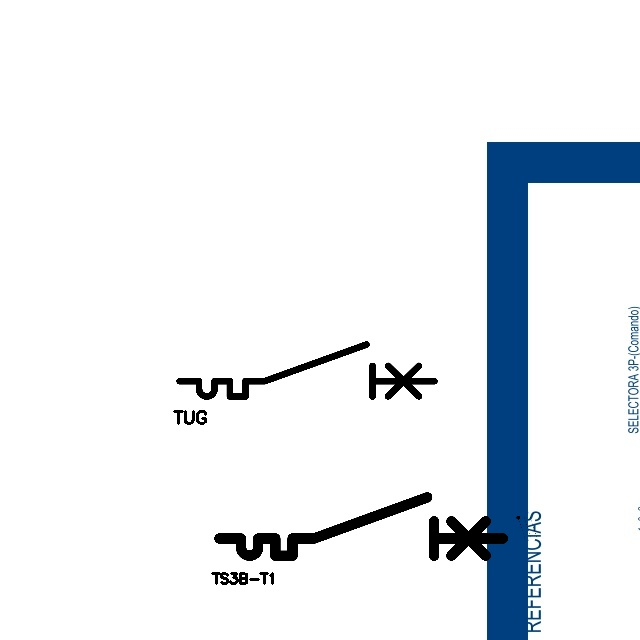interruptor_termomagnetico: (212, 490, 510, 563), (173, 338, 441, 403)
